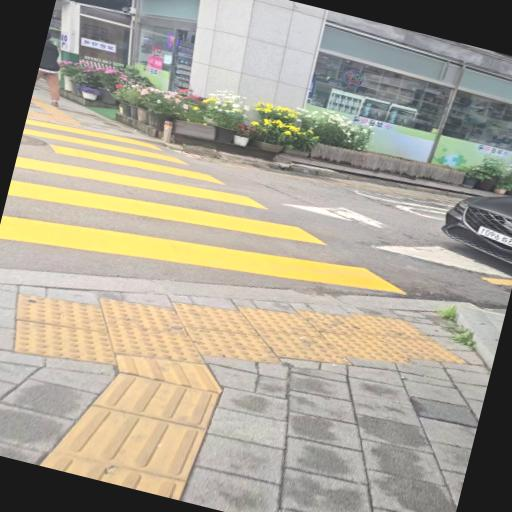yellow-crosswalk: (0, 93, 452, 356)
